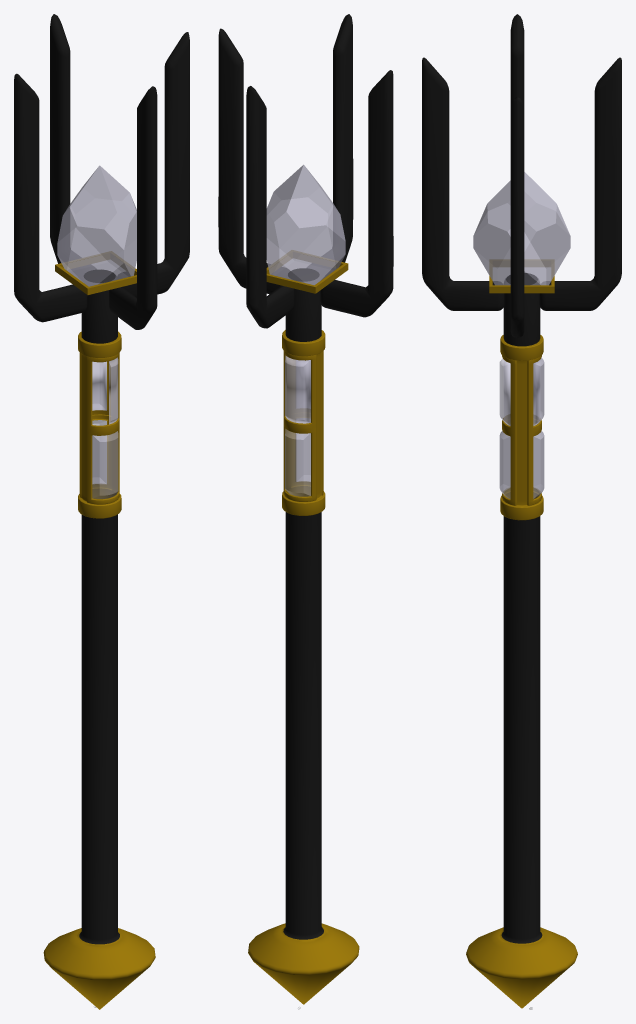
File: Robot Staff.fbx
3 renders of one model, left to right at view 1: azimuth 30°, elevation 25°; view 2: azimuth 150°, elevation 25°; view 3: azimuth 270°, elevation 25°, orthographic.
Parts seen in each view (by area): view 1: Staff.001, Blade, Blade.004, Spell Orb, Staff_gem, Spell Slot.005, Spell Orb_Prong, Spell Slot.002, Spell Slot.003, Spell Slot.004; view 2: Staff.001, Blade, Blade.004, Spell Orb, Staff_gem, Spell Slot.003, Spell Slot.002, Spell Orb_Prong, Spell Slot.005; view 3: Staff.001, Blade.004, Spell Orb, Staff_gem, Blade, Spell Orb_Prong, Spell Slot.005, Spell Slot.003, Spell Slot.002, Spell Slot.004.
Part boxes in pixels (box(x1,y1,x2,y2)): Staff.001: box(43, 269, 155, 1009); Blade: box(14, 32, 189, 322); Blade.004: box(50, 14, 157, 329); Spell Orb: box(57, 165, 136, 286); Staff_gem: box(78, 331, 121, 518); Spell Slot.005: box(92, 431, 118, 498); Spell Orb_Prong: box(55, 251, 136, 294); Spell Slot.002: box(92, 420, 106, 483); Spell Slot.003: box(92, 361, 106, 410); Spell Slot.004: box(109, 357, 118, 424); Staff.001: box(248, 268, 359, 1004); Blade: box(218, 28, 393, 317); Blade.004: box(246, 14, 353, 328); Spell Orb: box(266, 164, 345, 285); Staff_gem: box(282, 330, 325, 515); Spell Slot.003: box(285, 355, 310, 423); Spell Slot.002: box(285, 429, 310, 496); Spell Orb_Prong: box(266, 250, 348, 293); Spell Slot.005: box(296, 433, 310, 481); Staff.001: box(466, 273, 577, 1008); Blade.004: box(422, 57, 621, 310); Spell Orb: box(473, 172, 570, 285); Staff_gem: box(500, 335, 543, 520); Blade: box(510, 14, 524, 337); Spell Orb_Prong: box(489, 260, 554, 293); Spell Slot.005: box(499, 431, 510, 498); Spell Slot.003: box(533, 357, 544, 425); Spell Slot.002: box(533, 431, 544, 498); Spell Slot.004: box(499, 358, 510, 425).
Bounding box in the file's own units: 55 × 290 × 55.
